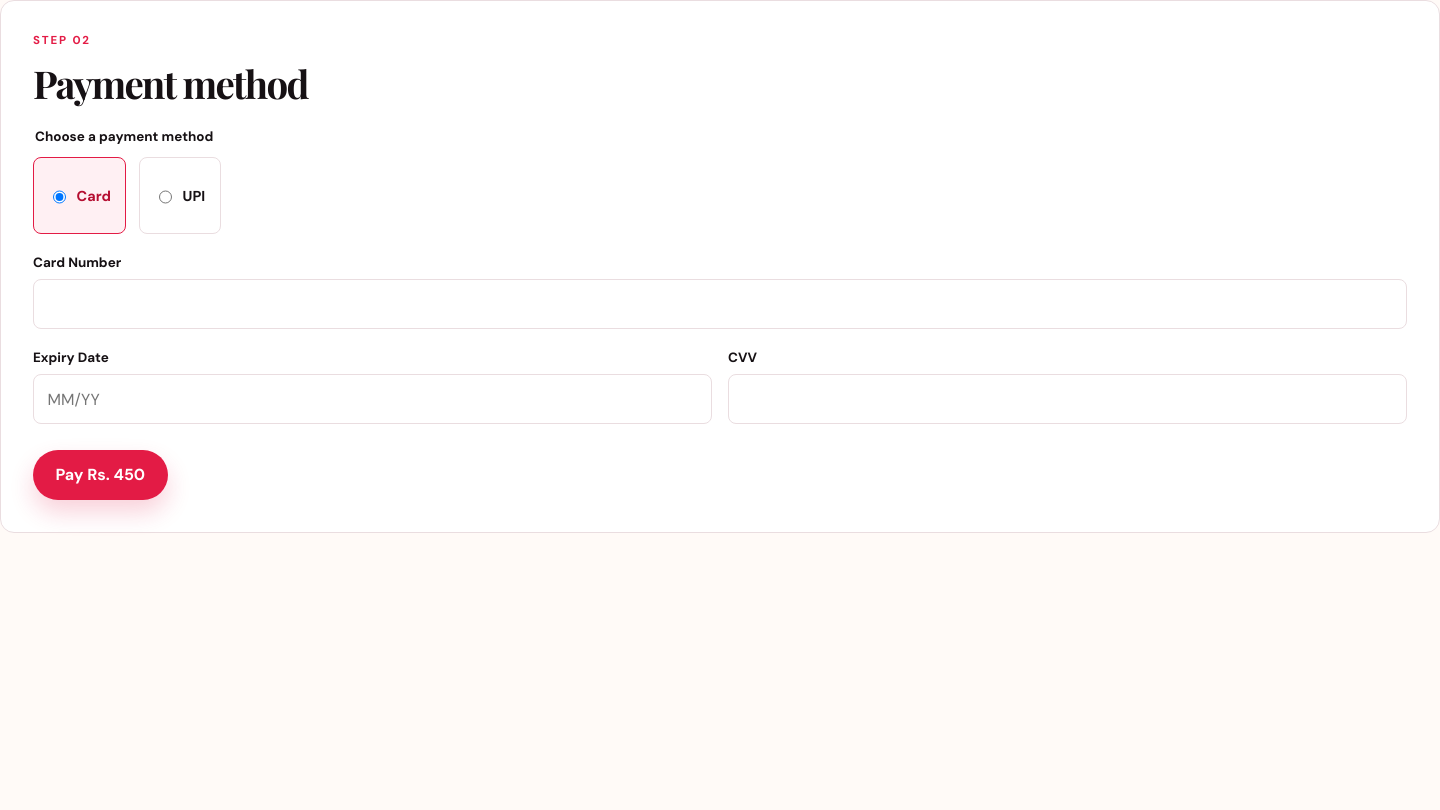
Scenario: booking components › marks an invalid card CVV with its specific validation error
Step 1. Type "4242424242424242" into the field labelled "Card Number" → (720, 304), box [33,279,1407,329]
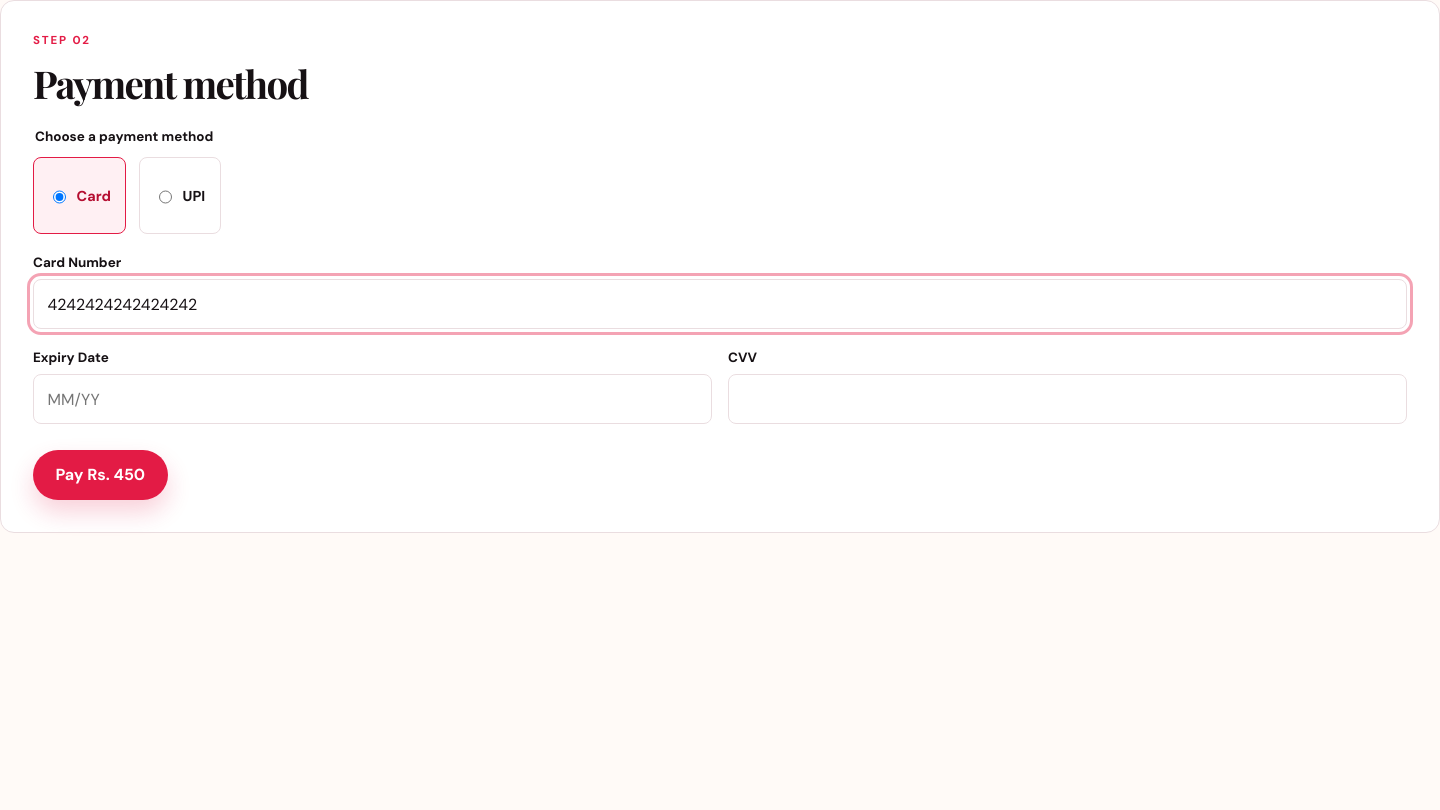
Step 2. Type "12/30" into the field labelled "Expiry Date" → (372, 399), box [33,374,712,424]
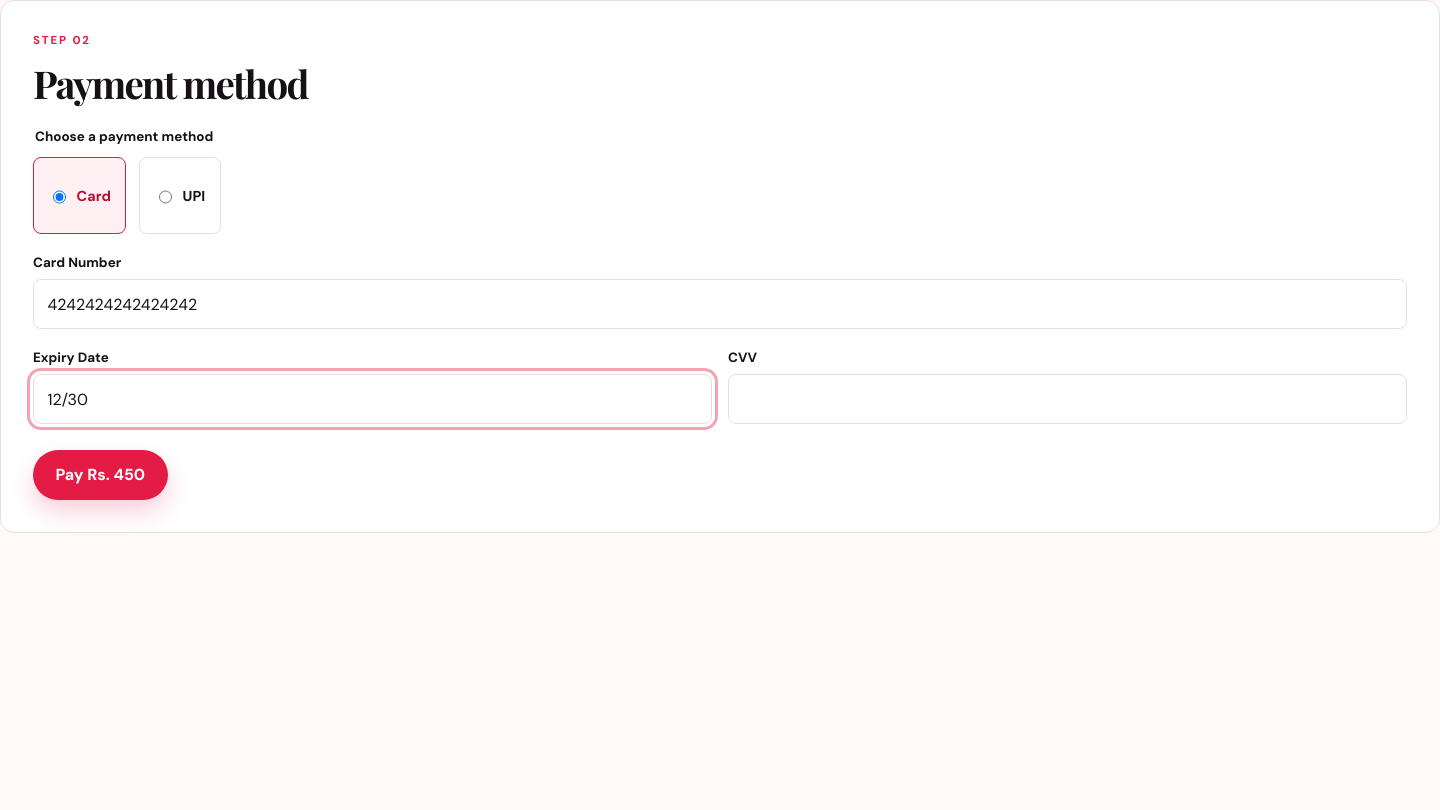
Step 3. Type "123" into the field labelled "CVV" → (1068, 399), box [728,374,1407,424]
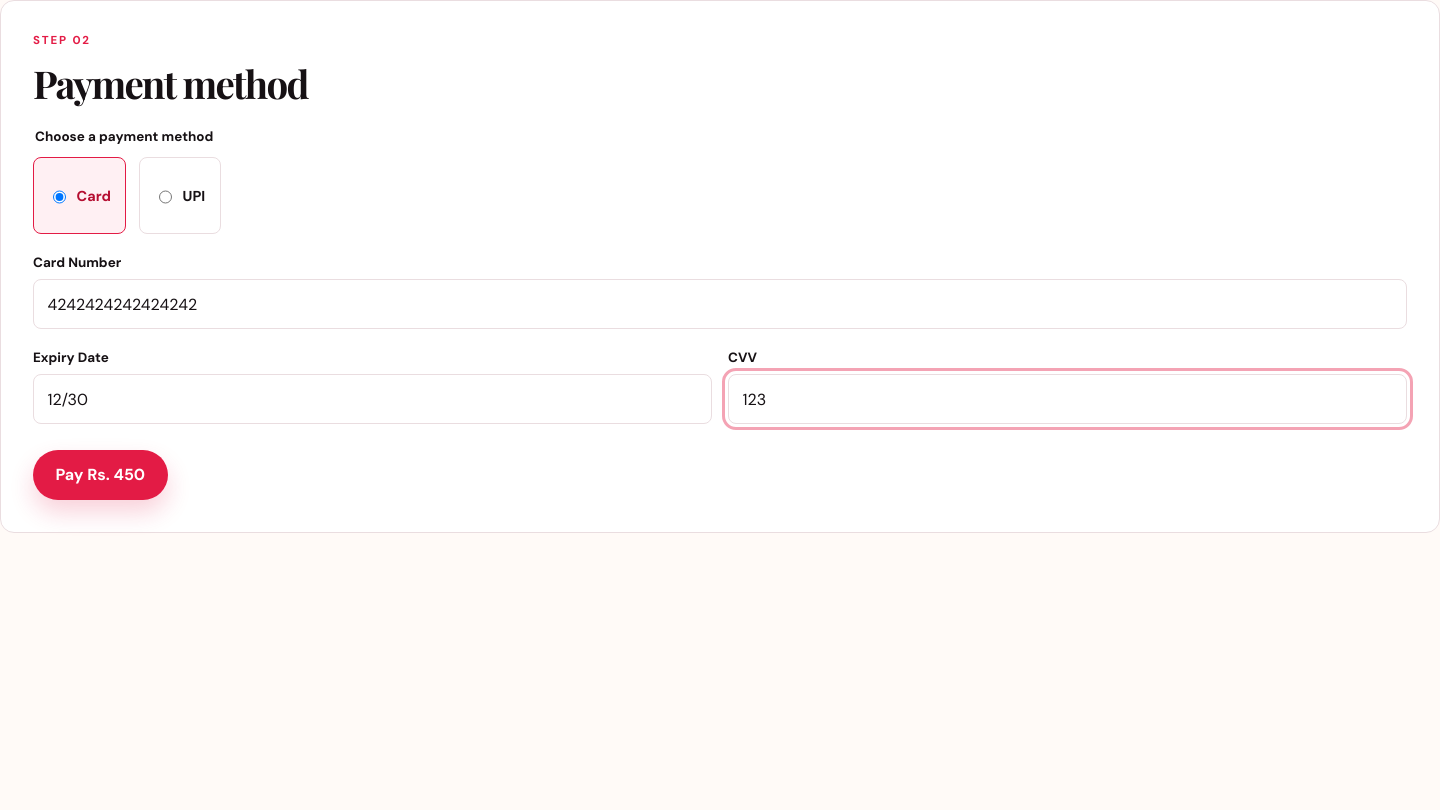
Step 4. Replace the text in the field labelled "CVV" with "1" → (1068, 399), box [728,374,1407,424]
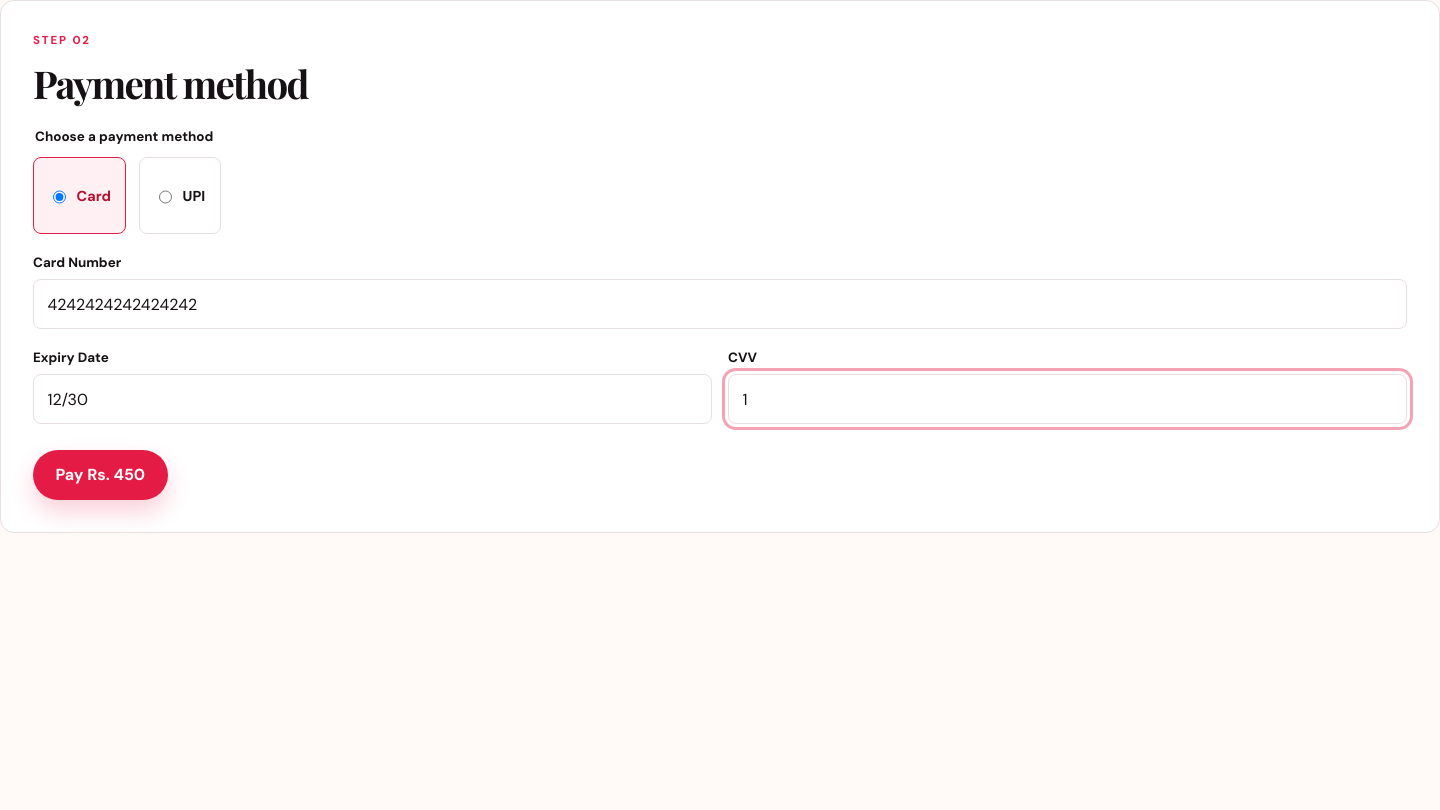
Step 5. Click the button "Pay Rs. 450" → (100, 475), box [33,450,168,500]
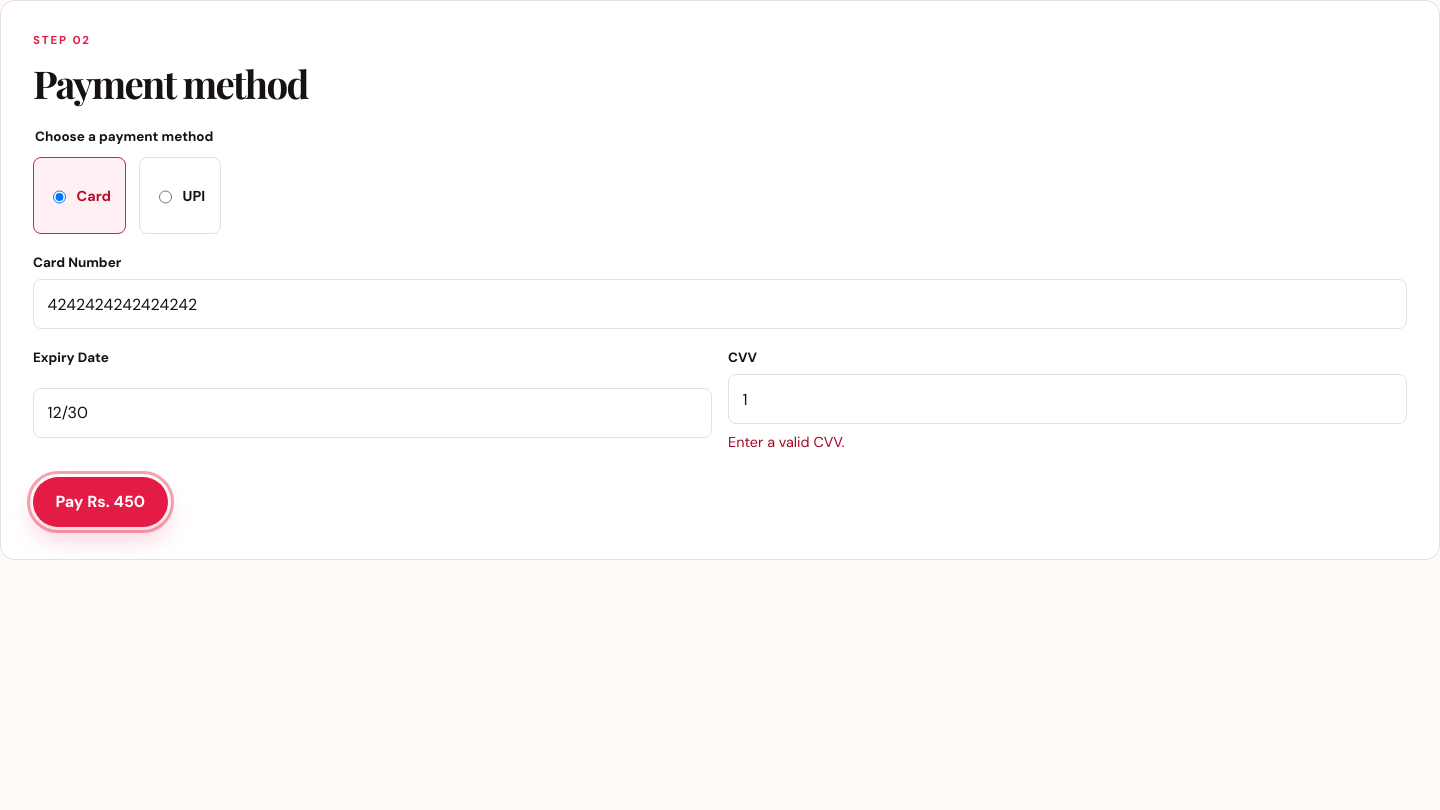
expect the message reads "Enter a valid CVV.": met, box [728,433,845,451]
